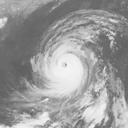cyclone: (38, 40, 90, 98)
